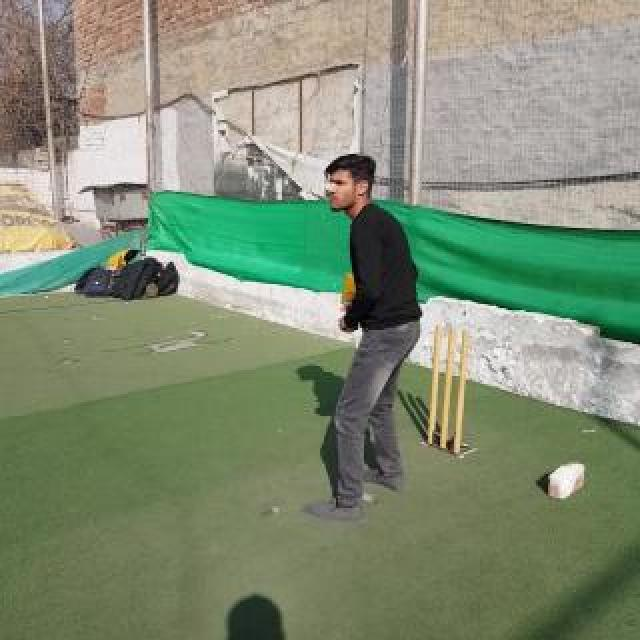bat: (342, 274, 358, 332)
